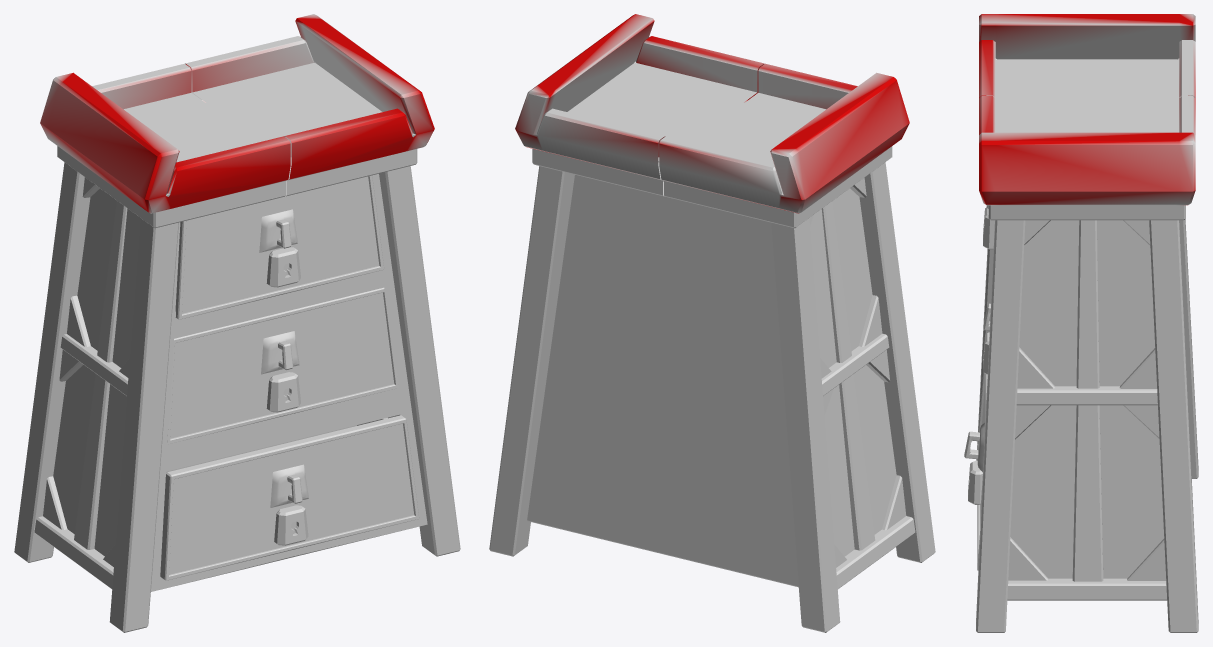
Rendered from MSG_Lr_shelf_1.FBX.
3 views of the same model, side by side, from view 1: azimuth 30°, elevation 25°; view 2: azimuth 150°, elevation 25°; view 3: azimuth 270°, elevation 25° (orthographic).
Visible parts, largest first — view 1: MSG_Lr_shelf_005, MSG_Lr_shelf_008, MSG_Lr_shelf_006, MSG_Lr_shelf_007, MSG_Lr_lokerBrown_1, MSG_Lr_lokerPurple_1, MSG_Lr_lokerGreen_005; view 2: MSG_Lr_shelf_005; view 3: MSG_Lr_shelf_005, MSG_Lr_shelf_008, MSG_Lr_lokerBrown_1, MSG_Lr_lokerGreen_005.
Part boxes in pixels (box(x1,y1,x2,y2)): MSG_Lr_shelf_005: box(14, 14, 460, 632); MSG_Lr_shelf_008: box(160, 415, 419, 580); MSG_Lr_shelf_006: box(167, 287, 399, 444); MSG_Lr_shelf_007: box(175, 175, 384, 319); MSG_Lr_lokerBrown_1: box(274, 505, 308, 545); MSG_Lr_lokerPurple_1: box(266, 372, 300, 412); MSG_Lr_lokerGreen_005: box(266, 247, 300, 287); MSG_Lr_shelf_005: box(489, 14, 935, 632); MSG_Lr_shelf_005: box(976, 14, 1198, 632); MSG_Lr_shelf_008: box(964, 372, 987, 570); MSG_Lr_lokerBrown_1: box(968, 460, 982, 504); MSG_Lr_lokerGreen_005: box(983, 207, 994, 249).
Bounding box in the file's own units: 125 × 165 × 74.13.
